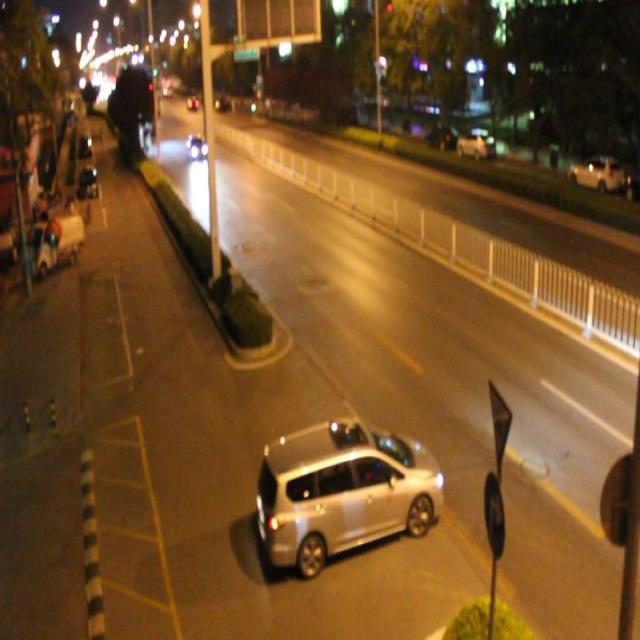car: (259, 421, 442, 565), (186, 137, 207, 160)
